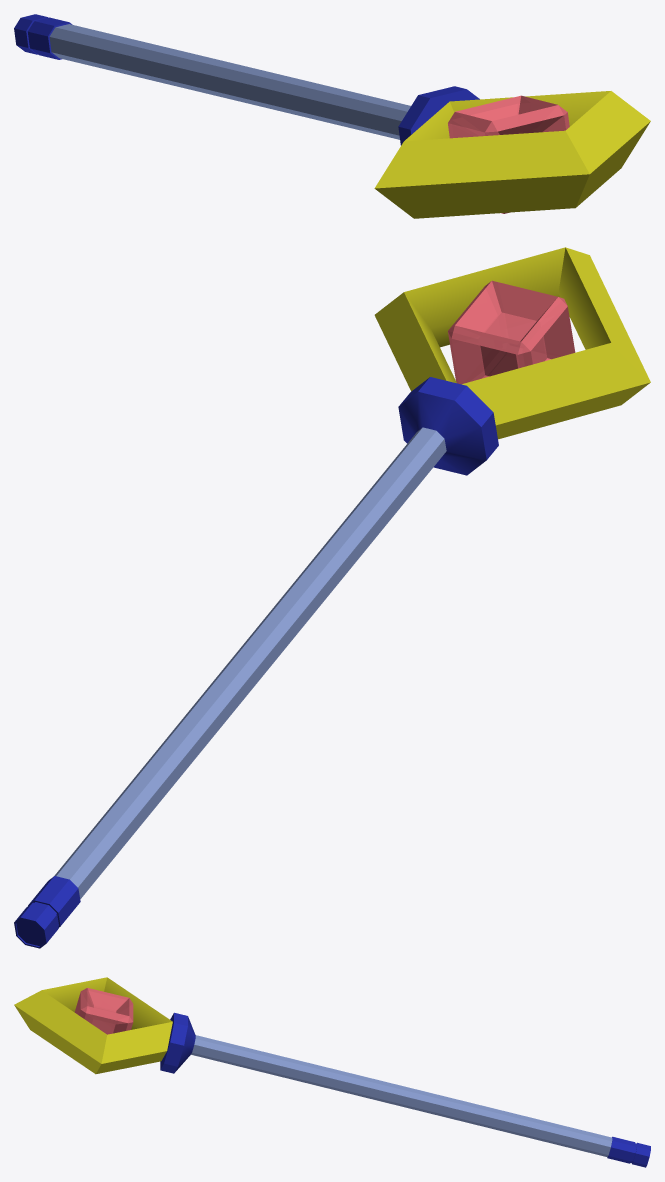
File: Girl_Anim_CloseRangeAttack_ver2.1.2_StaffOnly.fbx
3 renders of one model, top to bottom at view 1: azimuth 30°, elevation 25°; view 2: azimuth 150°, elevation 25°; view 3: azimuth 270°, elevation 25°, orthographic. The views are drawn at different scales.
Parts seen in each view (by area): view 1: Staff_H, CenterBlock; view 2: Staff_H, CenterBlock; view 3: Staff_H, CenterBlock.
Part boxes in pixels (<box>): Staff_H: <box>14,14,650,218</box>; CenterBlock: <box>448,95,569,213</box>; Staff_H: <box>14,247,650,948</box>; CenterBlock: <box>448,280,575,384</box>; Staff_H: <box>14,977,650,1167</box>; CenterBlock: <box>74,988,133,1034</box>.
Size of the model in its own units: 20 by 21.38 by 70.37.
